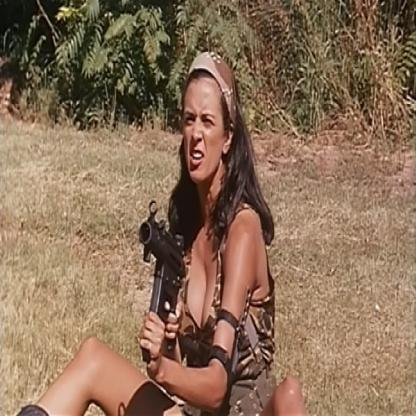Gun: (132, 194, 186, 373)
